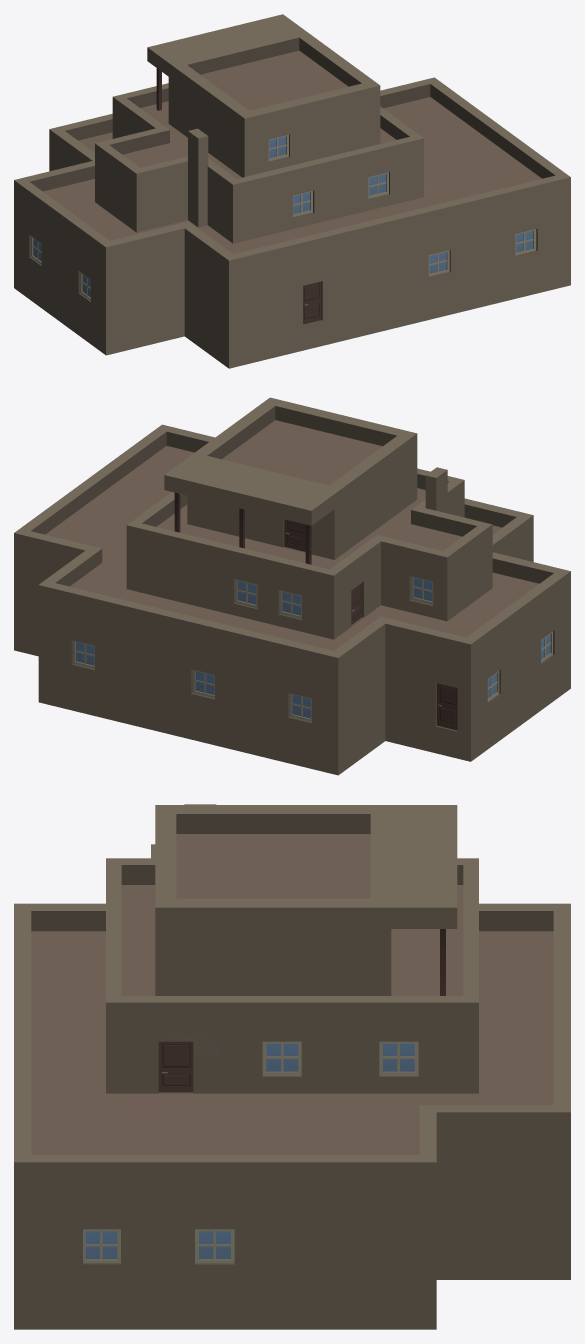
File: Residential_LargeAdobeHouse_alt03.glb
The picture shows the model from 3 angles, top to bottom: view 1: azimuth 30°, elevation 25°; view 2: azimuth 150°, elevation 25°; view 3: azimuth 270°, elevation 25°; orthographic projection. The views are drawn at different scales.
Parts seen in each view (by area): view 1: base.142, windowRefl.111; view 2: base.142, windowRefl.111; view 3: base.142, windowRefl.111.
Boxes of the visible parts, bbox=[...] form: base.142: bbox=[14, 14, 570, 368]; windowRefl.111: bbox=[33, 136, 533, 297]; base.142: bbox=[14, 397, 570, 775]; windowRefl.111: bbox=[76, 577, 550, 718]; base.142: bbox=[14, 804, 570, 1329]; windowRefl.111: bbox=[85, 1043, 414, 1259].
Size of the model in its own units: 37.81 by 17.33 by 27.98.
